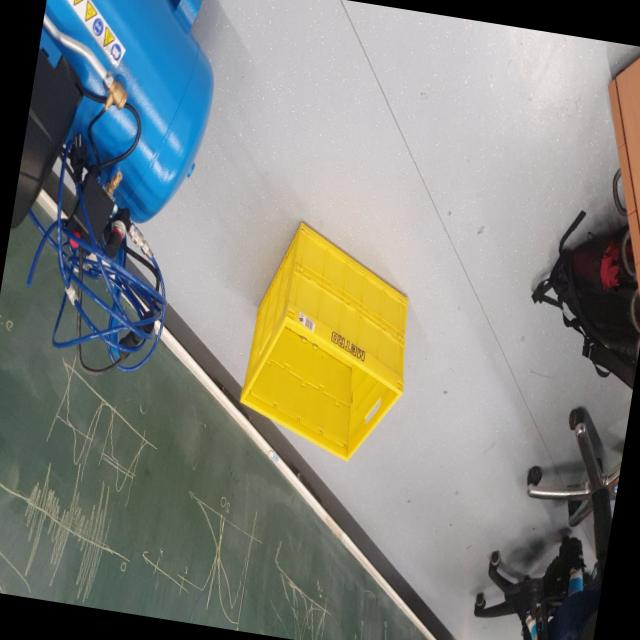box: (218, 202, 440, 480)
